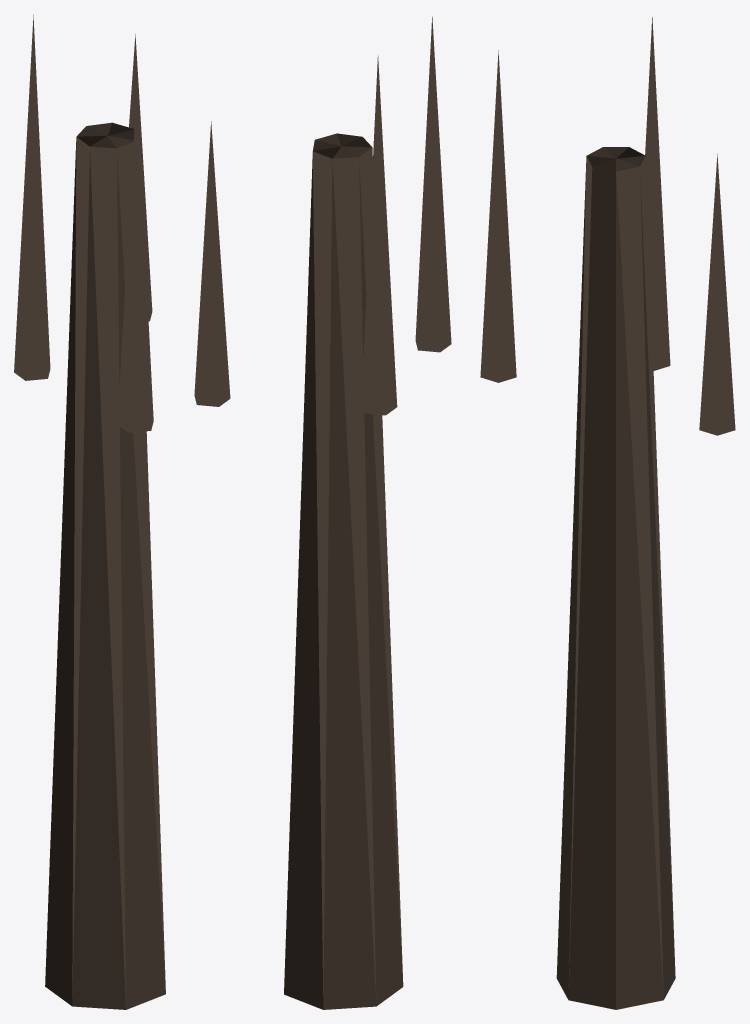
The model's file is dead_tree.obj.
3 renders of one model, left to right at view 1: azimuth 30°, elevation 25°; view 2: azimuth 150°, elevation 25°; view 3: azimuth 270°, elevation 25°, orthographic. The views are drawn at different scales.
Visible parts, largest first — view 1: dead_tree; view 2: dead_tree; view 3: dead_tree.
Boxes of the visible parts, x1,y1,x2,y2 form: dead_tree: (14,14,165,1009); dead_tree: (194,16,451,1009); dead_tree: (480,17,735,1009).
Bounding box in the file's own units: 0.4895 × 2.73 × 0.6694.
